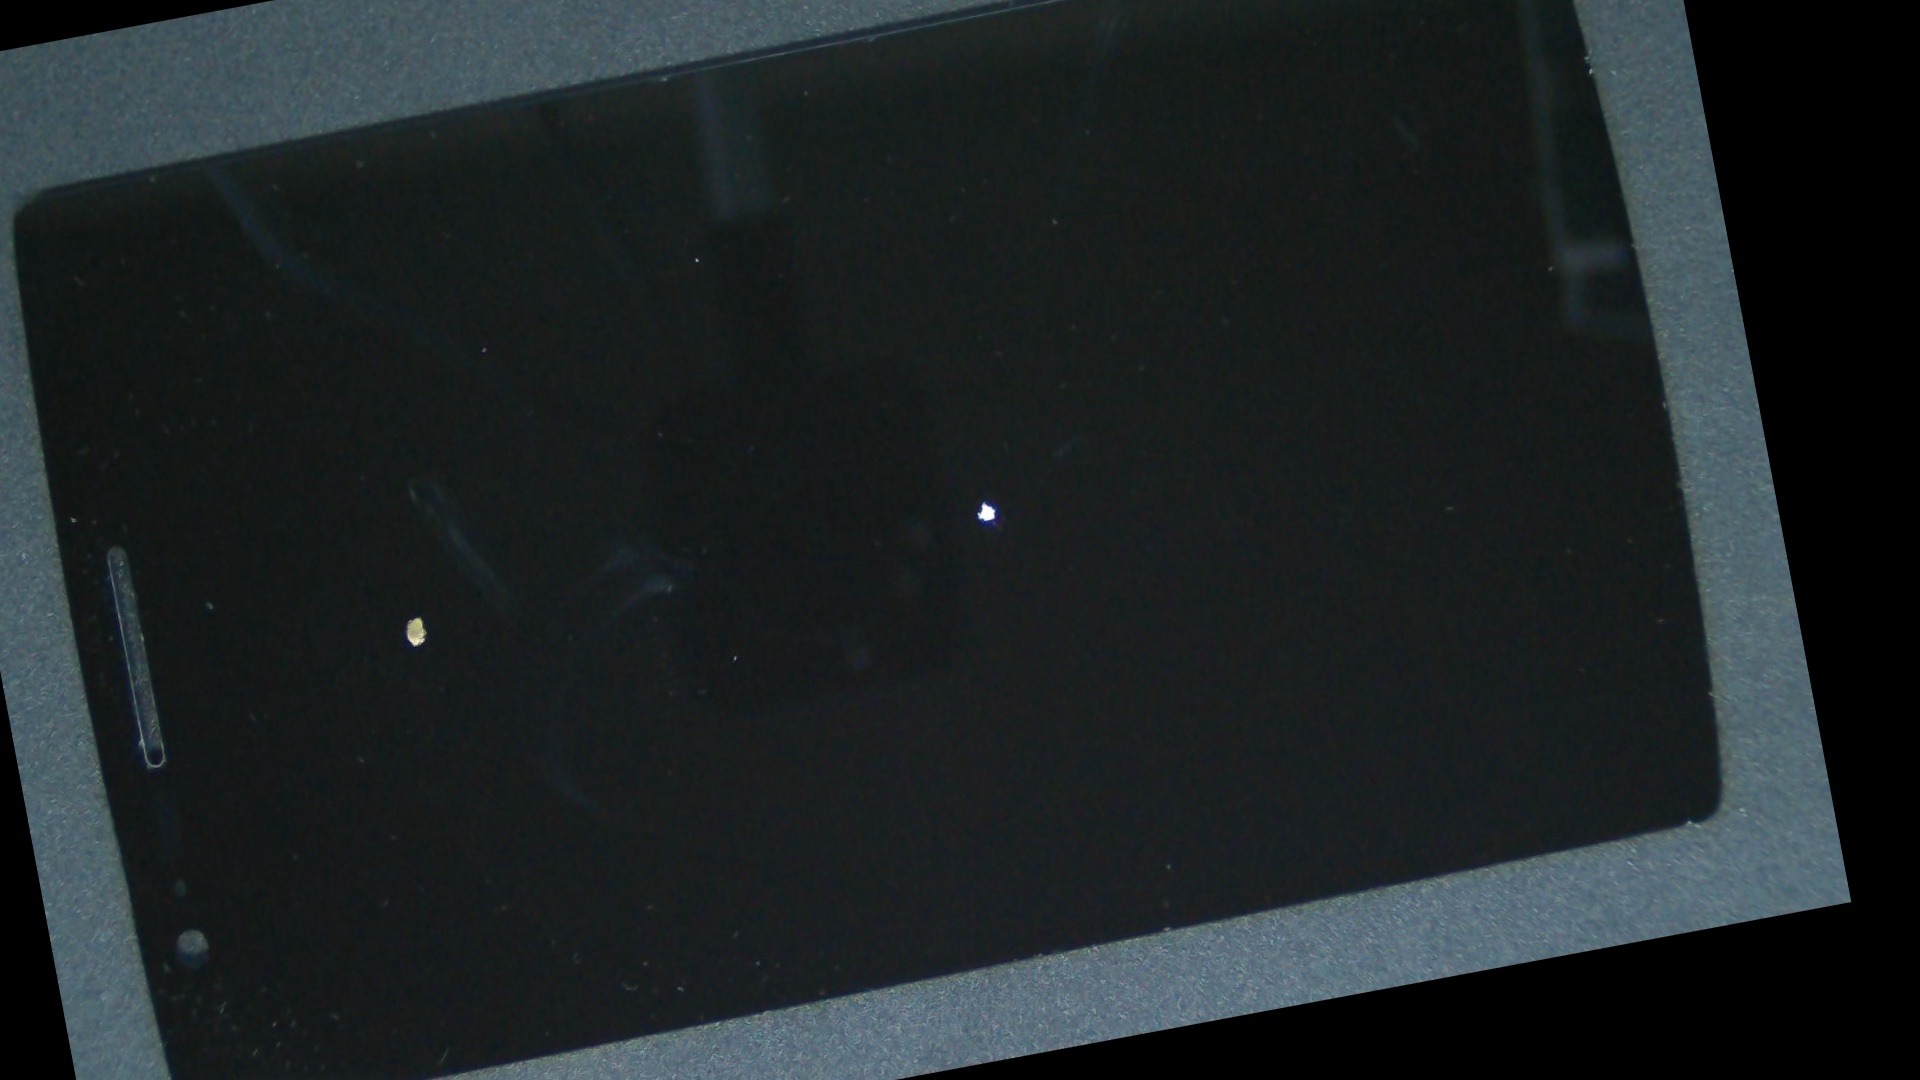oil: (436, 103, 1532, 895), (154, 266, 684, 964)
